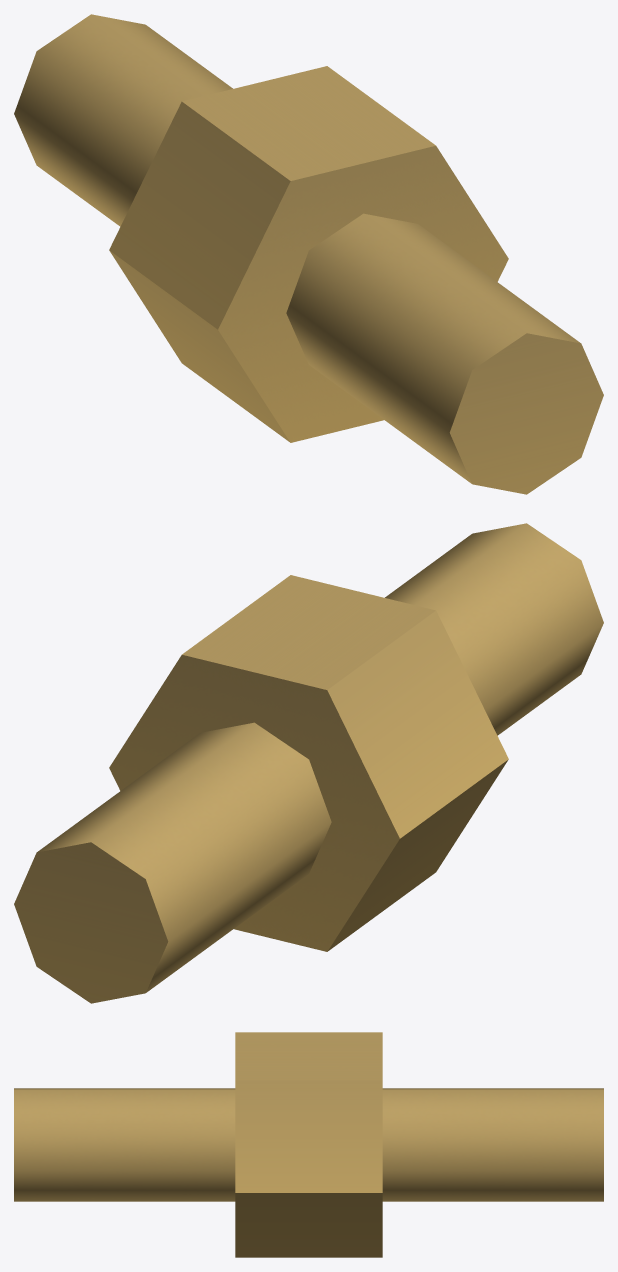
The model's file is axle_hor.glb.
The picture shows the model from 3 angles, top to bottom: view 1: azimuth 30°, elevation 25°; view 2: azimuth 150°, elevation 25°; view 3: azimuth 270°, elevation 25°; orthographic projection. The views are drawn at different scales.
Parts seen in each view (by area): view 1: AxleHor; view 2: AxleHor; view 3: AxleHor.
Boxes of the visible parts, x1=… form: AxleHor: x1=14, y1=14, x2=603, y2=494; AxleHor: x1=14, y1=523, x2=603, y2=1003; AxleHor: x1=14, y1=1032, x2=603, y2=1257.
Size of the model in its own units: 0.7711 by 0.6632 by 2.
Materials: 1 (1 with a texture image).
